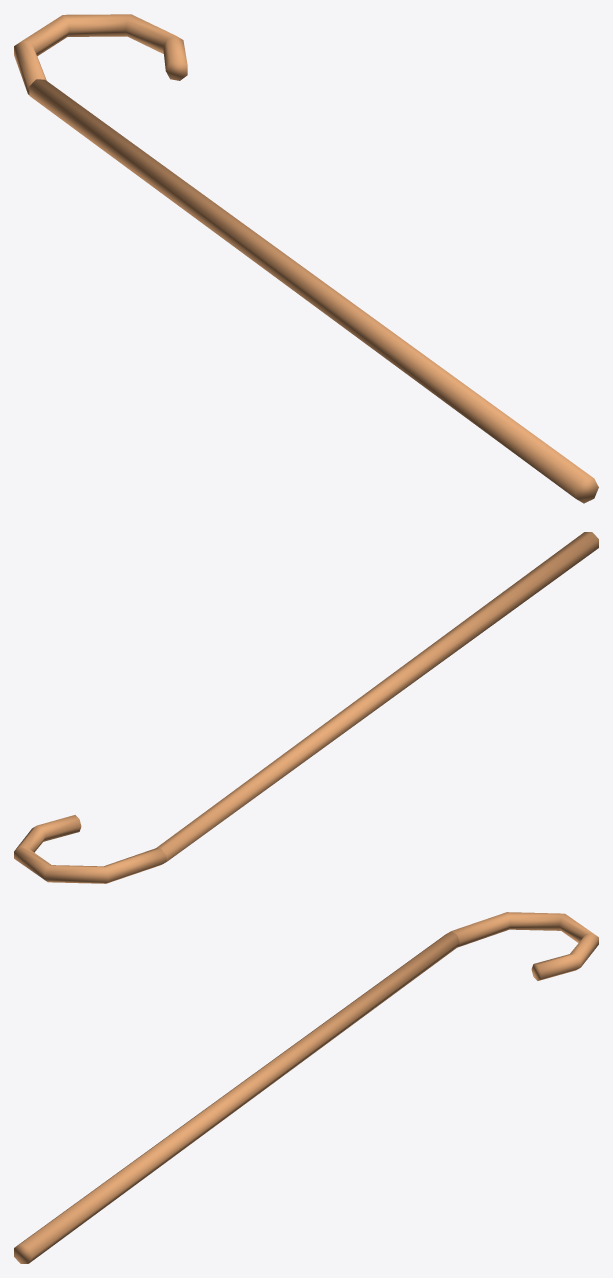
File: weapon_shepherd_crook.glb
3 renders of one model, top to bottom at view 1: azimuth 30°, elevation 25°; view 2: azimuth 150°, elevation 25°; view 3: azimuth 330°, elevation 25°, orthographic. The views are drawn at different scales.
Parts seen in each view (by area): view 1: piece; view 2: piece; view 3: piece.
Part boxes in pixels (<box>): piece: <box>14,14,598,503</box>; piece: <box>14,532,598,883</box>; piece: <box>14,912,598,1263</box>.
Size of the model in its own units: 0.2959 by 0.0429 by 1.9.
